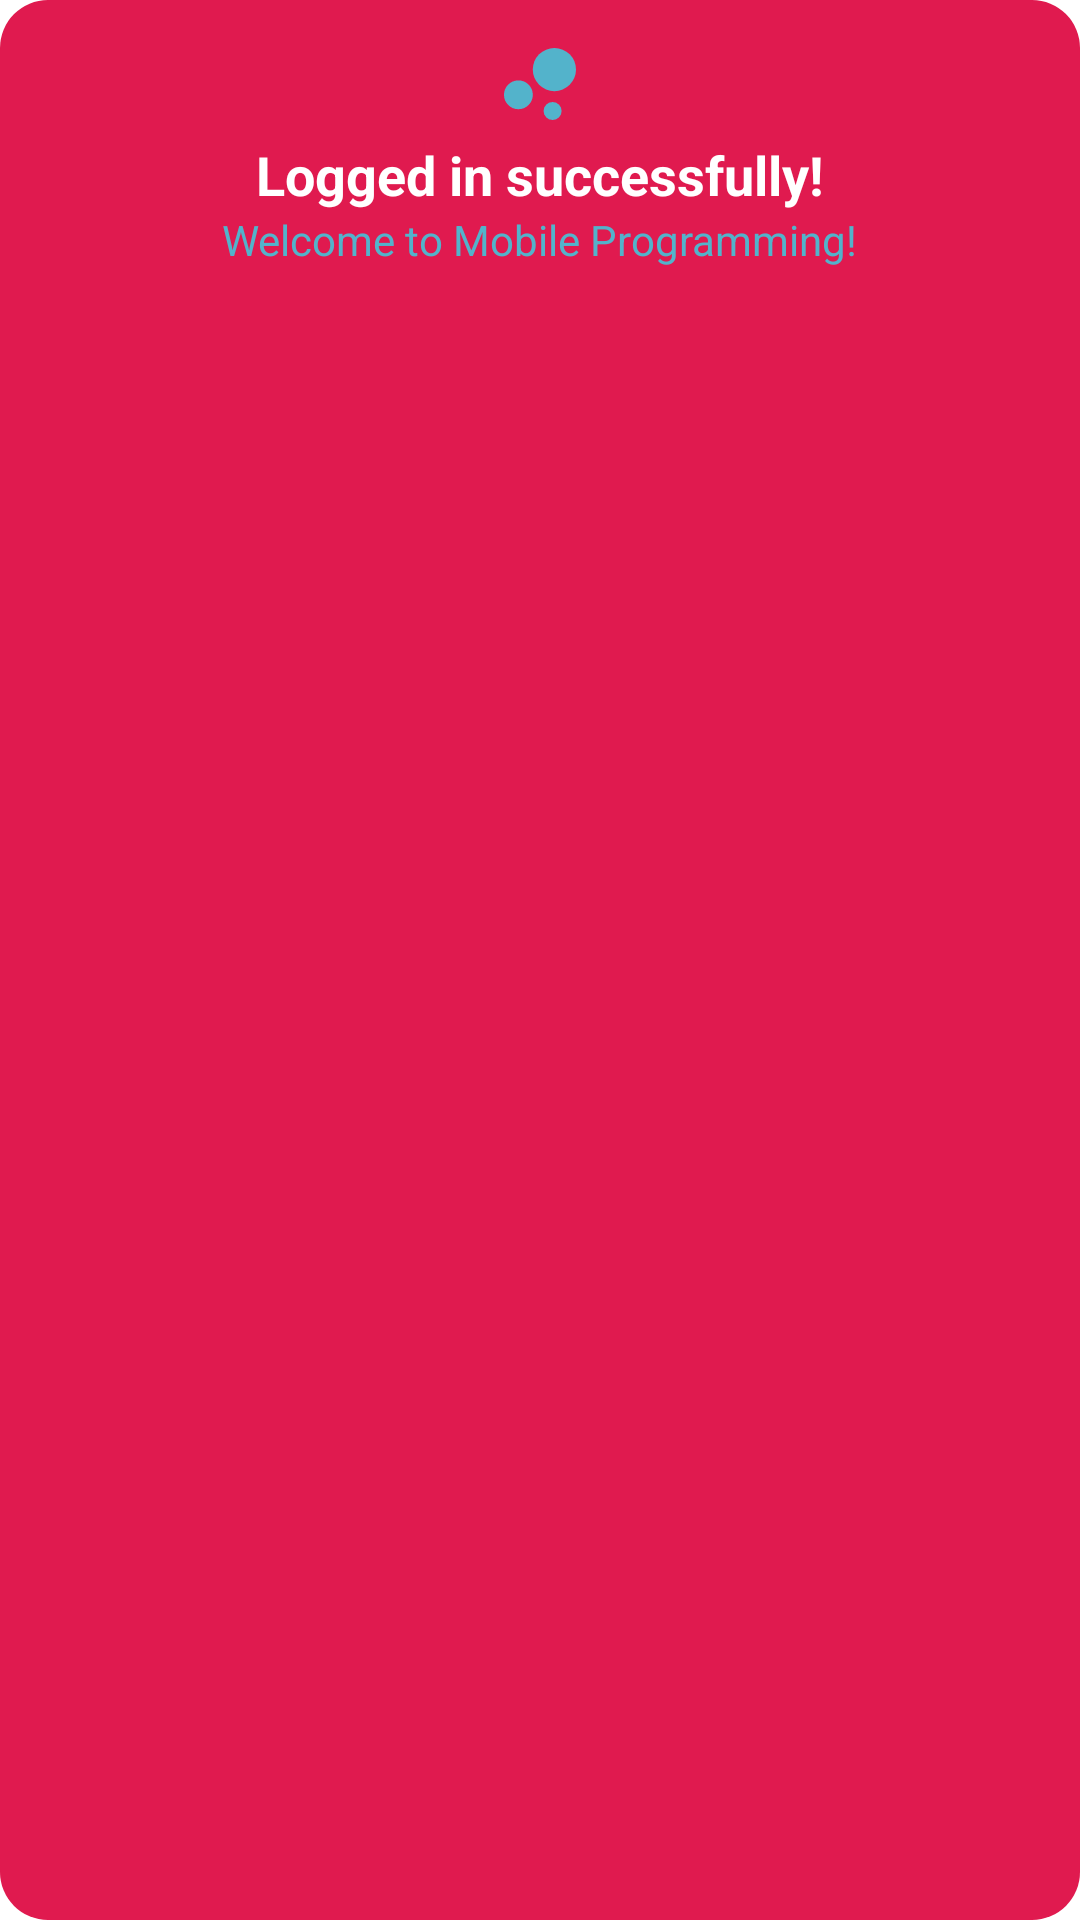

Point at icon controls on the screen. Image size 1080x1920, points as point (x, y).
Welcome bubble: point (540, 84)
